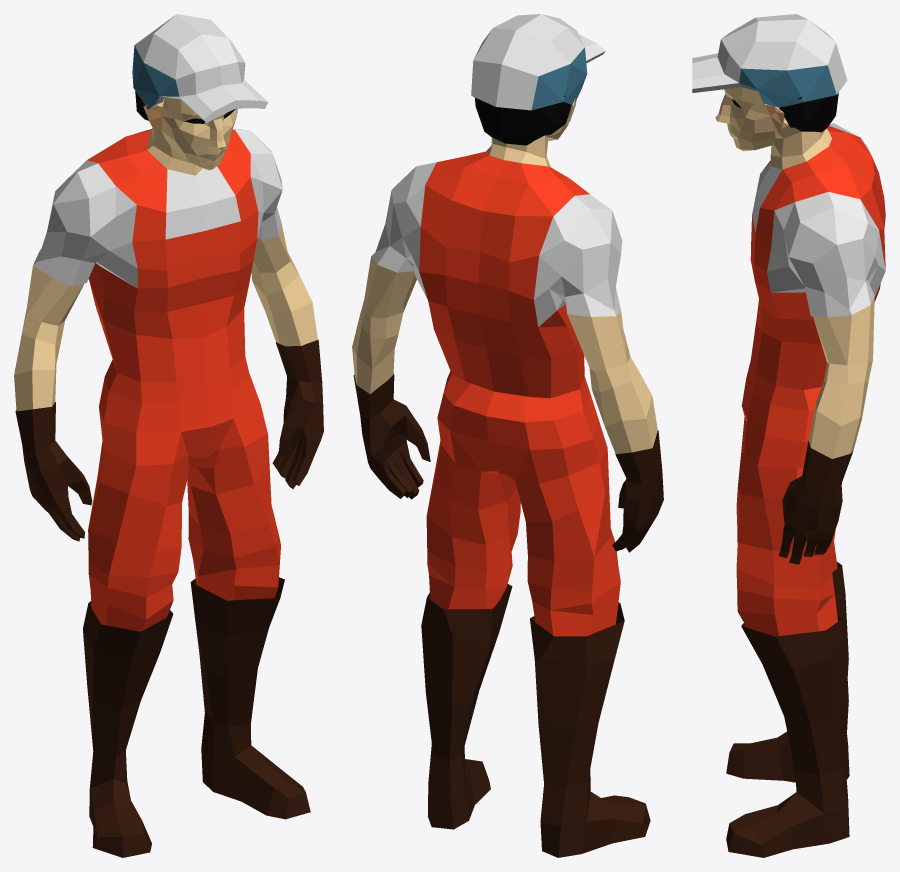
The model's file is Male_04.FBX.
The picture shows the model from 3 angles, left to right: view 1: azimuth 30°, elevation 25°; view 2: azimuth 150°, elevation 25°; view 3: azimuth 270°, elevation 25°; orthographic projection.
Visible parts, largest first — view 1: Male_04; view 2: Male_04; view 3: Male_04.
Part boxes in pixels (x1,y1,x2,y2): Male_04: (14,14,323,857); Male_04: (352,14,663,857); Male_04: (692,14,885,857).
Bounding box in the file's own units: 0.712 × 1.81 × 0.4024.
1 material, 1 textured.
